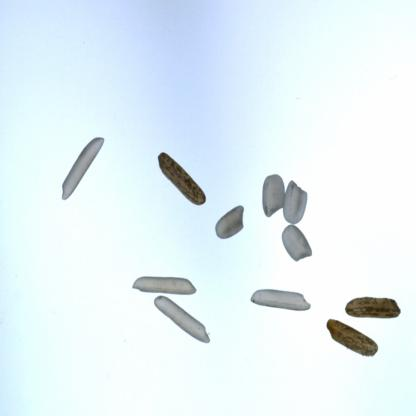Full: (56, 118, 124, 202), (155, 134, 218, 212), (153, 280, 209, 358), (320, 312, 379, 362), (248, 280, 312, 321), (339, 289, 402, 326), (129, 258, 196, 290), (209, 199, 256, 242), (278, 218, 318, 262), (278, 173, 312, 223), (259, 169, 289, 217)
